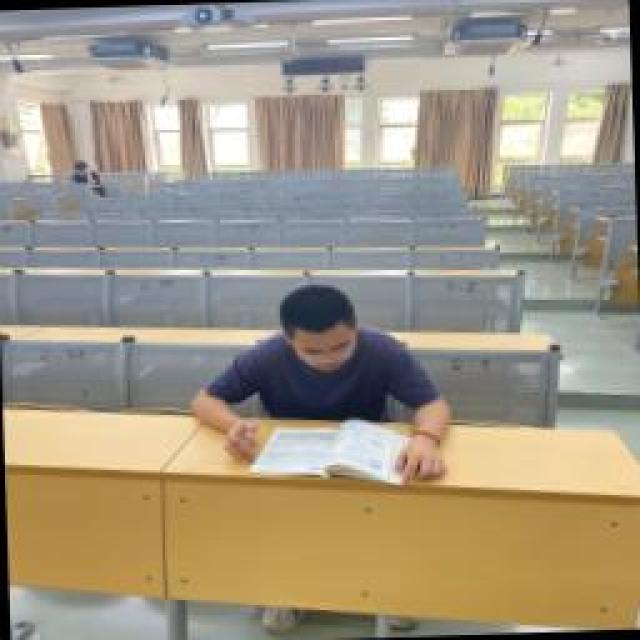study: (185, 280, 453, 490)
